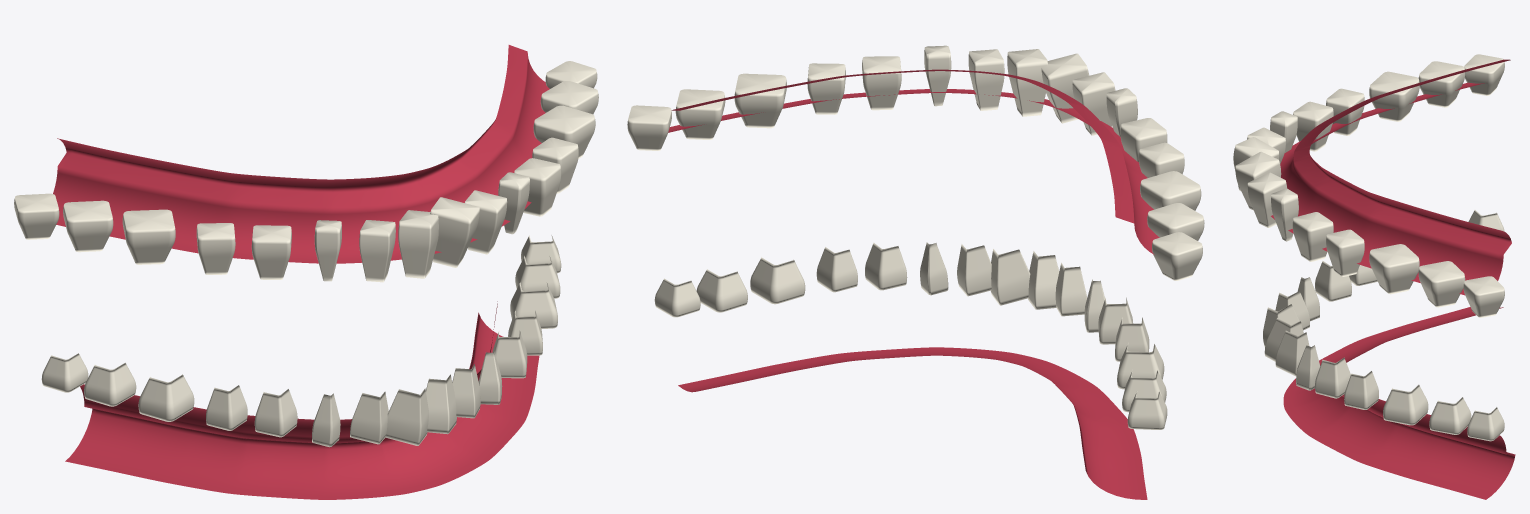
File: teeth_separated.glb
3 renders of one model, left to right at view 1: azimuth 30°, elevation 25°; view 2: azimuth 150°, elevation 25°; view 3: azimuth 270°, elevation 25°, orthographic. The views are drawn at different scales.
Visible parts, largest first — view 1: gum_upper, gum_lower, tooth_16, tooth_21, tooth_11, tooth_17, tooth_26, tooth_46, tooth_41, tooth_14, tooth_12, tooth_15 (+22 smaller); view 2: gum_lower, gum_upper, tooth_26, tooth_21, tooth_27, tooth_36, tooth_18, tooth_24, tooth_31, tooth_22, tooth_16, tooth_11 (+22 smaller); view 3: gum_lower, gum_upper, tooth_26, tooth_16, tooth_27, tooth_17, tooth_24, tooth_25, tooth_36, tooth_28, tooth_22, tooth_18 (+20 smaller).
Boxes of the visible parts, x1,y1,x2,y2 form: gum_upper: (53,45,549,263); gum_lower: (65,301,539,499); tooth_16: (122,209,175,264); tooth_21: (430,197,479,267); tooth_11: (398,210,438,278); tooth_17: (63,200,113,252); tooth_26: (533,105,595,158); tooth_46: (138,374,194,421); tooth_41: (385,388,428,445); tooth_14: (251,225,291,279); tooth_12: (359,220,395,282); tooth_15: (196,223,235,274); gum_lower: (678,347,1147,499); gum_upper: (668,69,1159,254); tooth_26: (734,73,786,128); tooth_21: (1007,49,1047,116); tooth_27: (675,89,725,139); tooth_36: (750,257,805,304); tooth_18: (1152,232,1202,280); tooth_24: (862,56,901,110); tooth_31: (991,249,1030,305); tooth_22: (968,49,1004,110); tooth_16: (1140,171,1201,210); tooth_11: (1041,53,1089,123); gum_lower: (1283,307,1515,499); gum_upper: (1271,59,1511,295); tooth_26: (1369,244,1419,294); tooth_16: (1369,71,1419,121); tooth_27: (1418,261,1465,307); tooth_17: (1418,61,1465,107); tooth_24: (1292,212,1333,261); tooth_25: (1326,229,1364,276); tooth_36: (1383,384,1428,425); tooth_28: (1463,276,1504,317); tooth_22: (1247,172,1287,227); tooth_18: (1464,54,1504,95).
Bounding box in the file's own units: 0.114 × 0.0612 × 0.0566.
